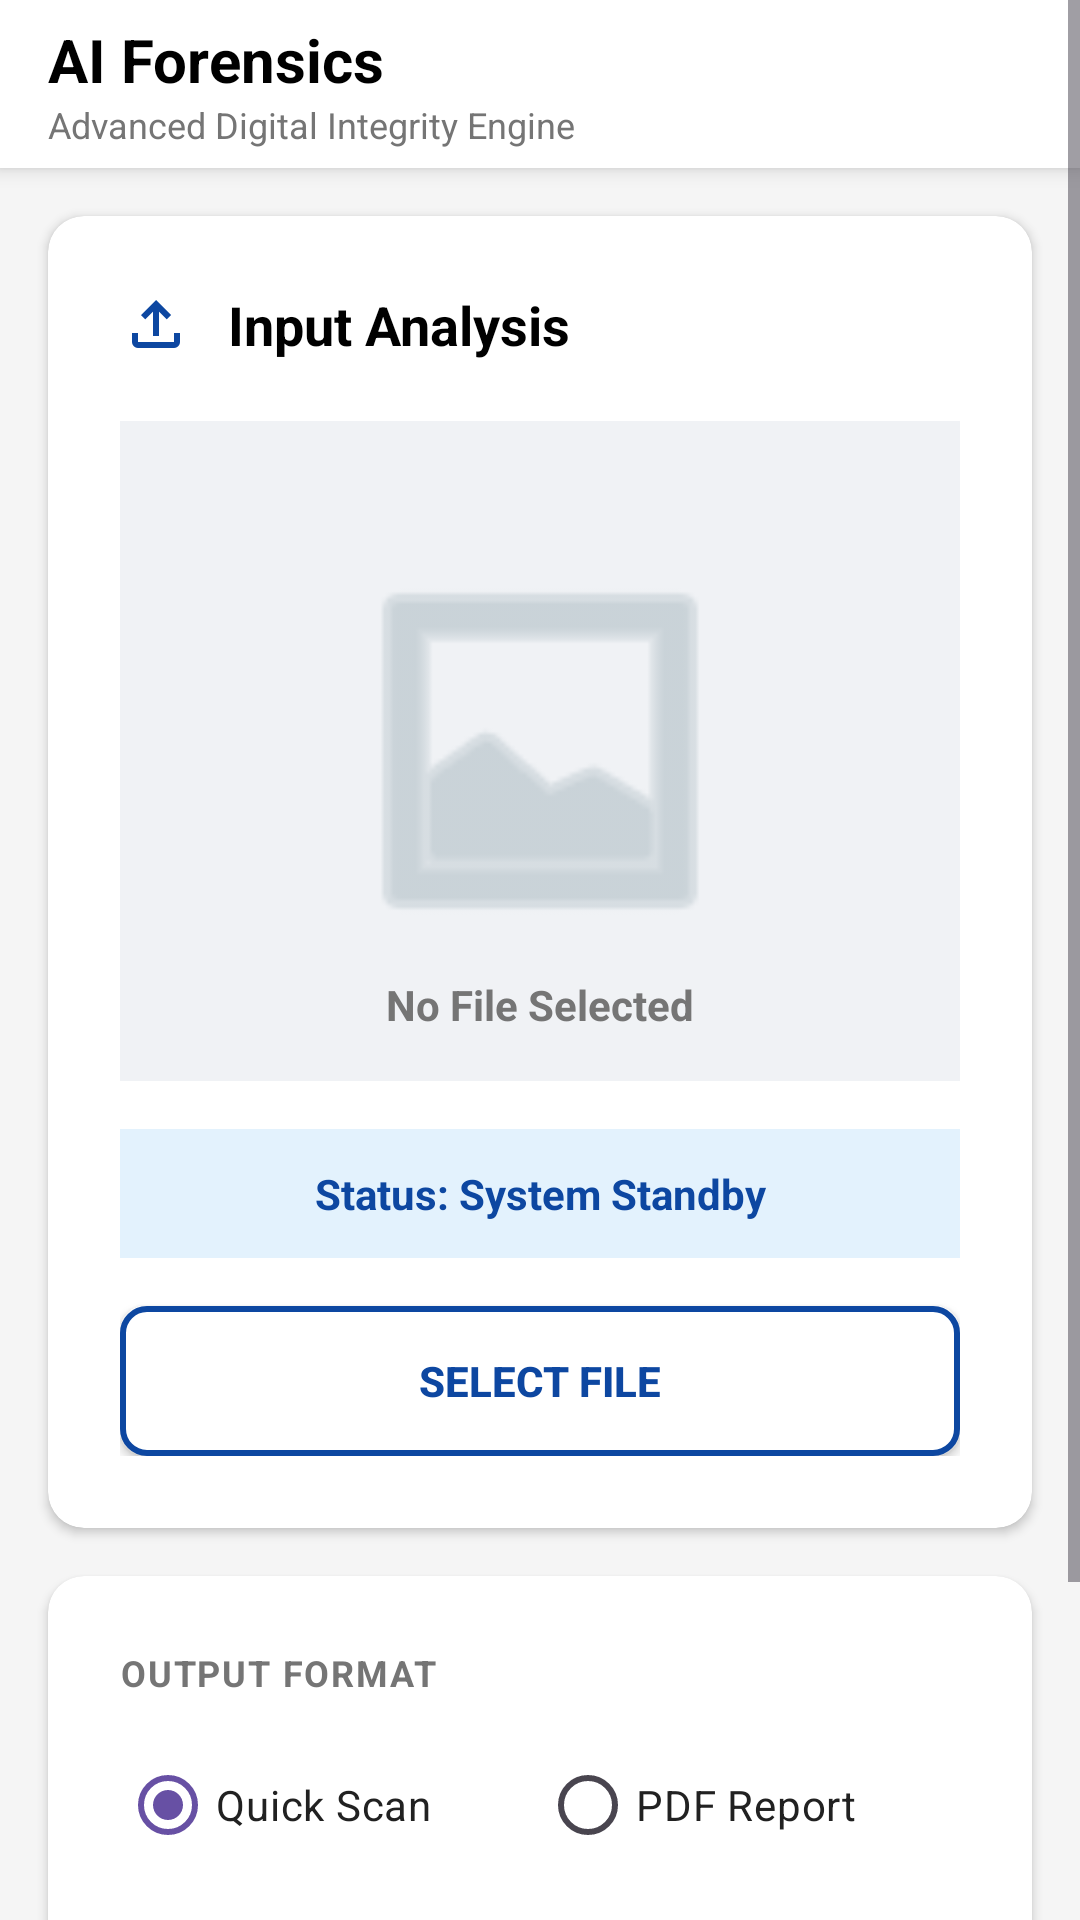

Named icons in this screenshot (1080px×1920px) and their bounding boxes, (x1, y1, x2, y2):
upload: (132, 300, 180, 348)
